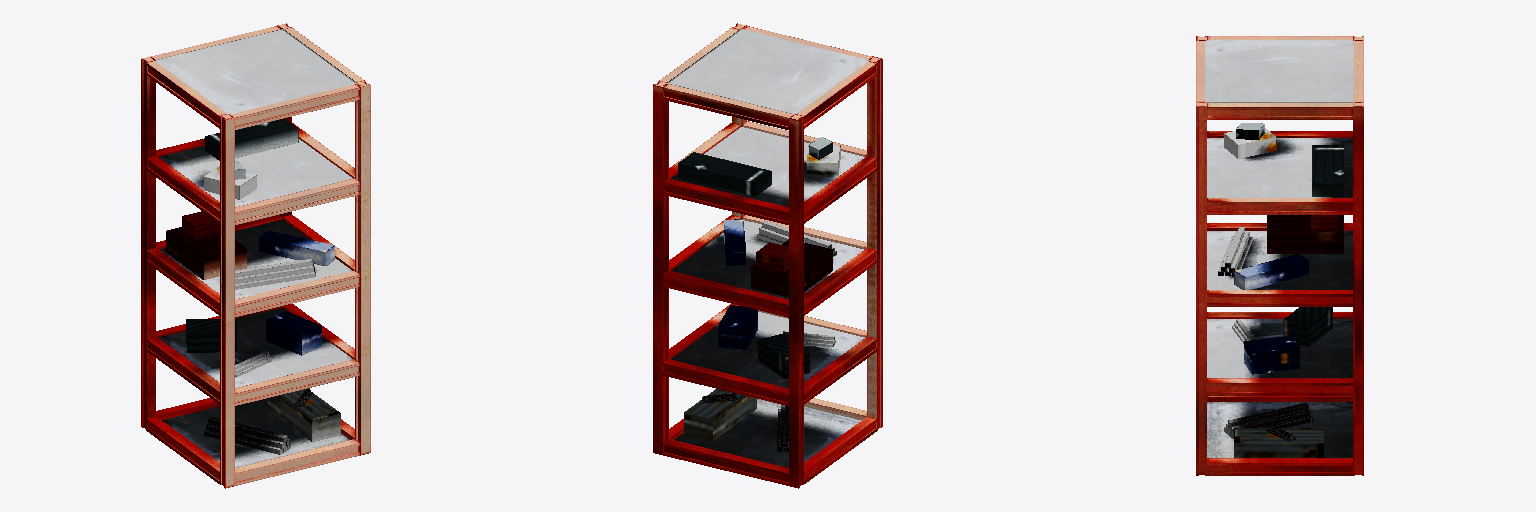
The picture shows the model from 3 angles: view 1: azimuth 30°, elevation 25°; view 2: azimuth 150°, elevation 25°; view 3: azimuth 270°, elevation 25°; orthographic projection.
Size of the model in its own units: 12.08 by 29.2 by 12.07.
1 materials, 1 textured.